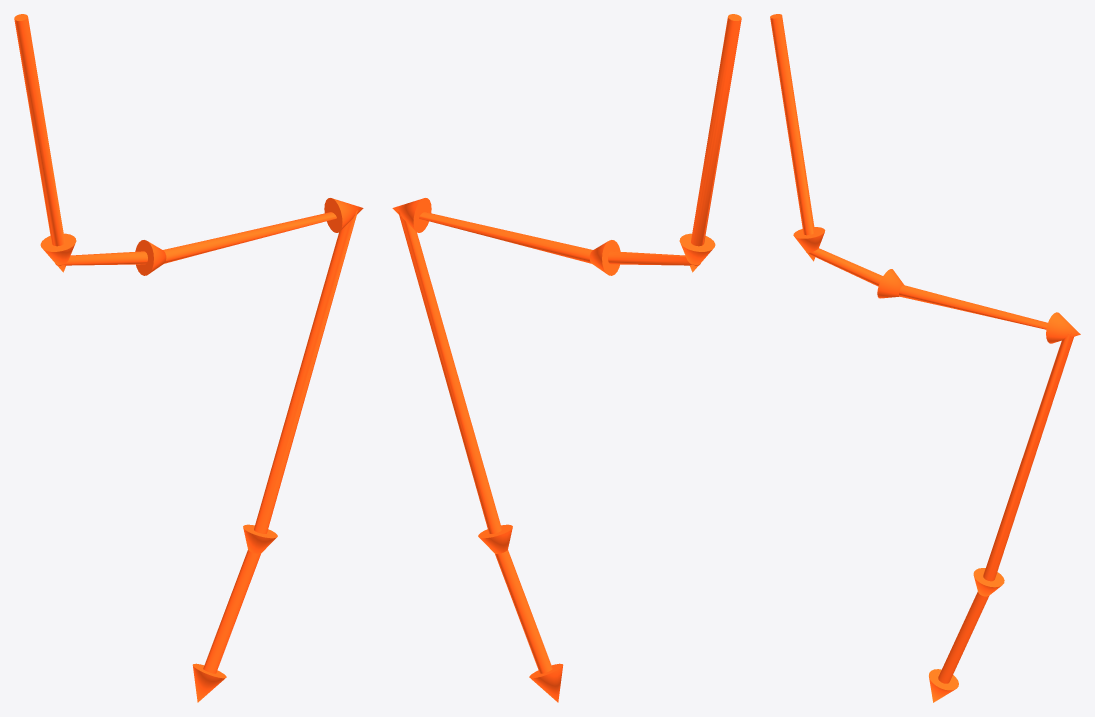
The model's file is impact_crusher_flow.glb.
3 renders of one model, left to right at view 1: azimuth 30°, elevation 25°; view 2: azimuth 150°, elevation 25°; view 3: azimuth 330°, elevation 25°, orthographic. The views are drawn at different scales.
Parts seen in each view (by area): view 1: material; view 2: material; view 3: material.
Boxes of the visible parts, x1,y1,x2,y2 form: material: [14, 14, 363, 702]; material: [392, 14, 741, 702]; material: [770, 14, 1080, 702].
Bounding box in the file's own units: 0.8648 × 1.73 × 0.078.
